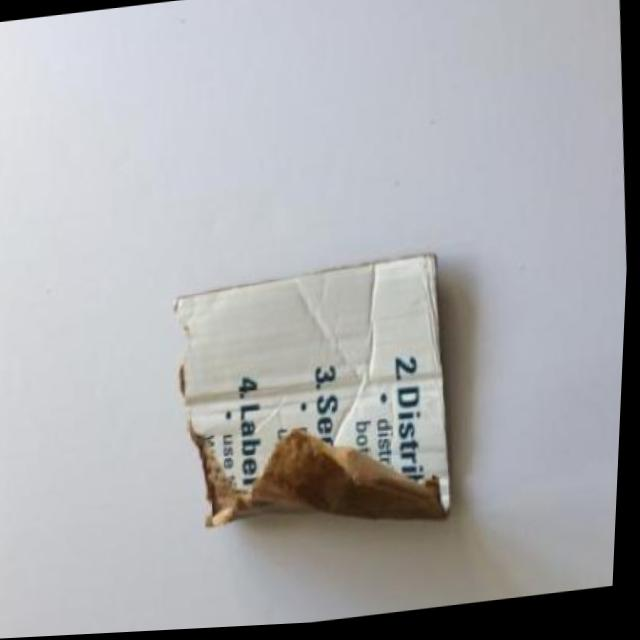box: (162, 237, 484, 587)
